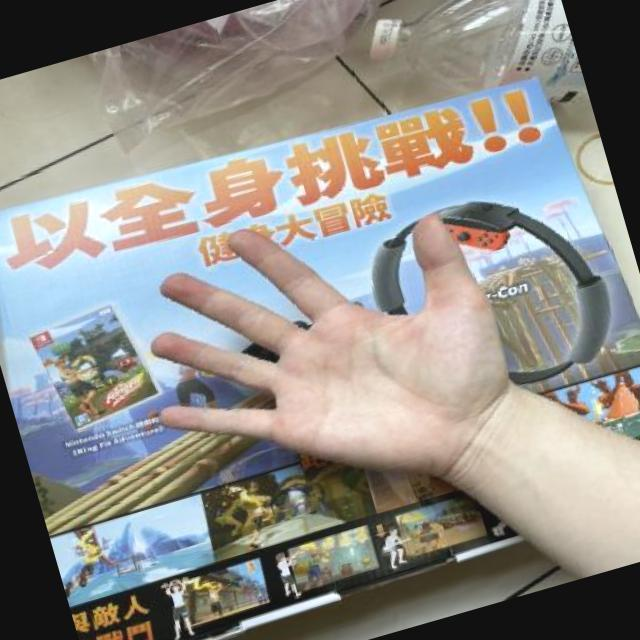Hand: (149, 202, 519, 484)
